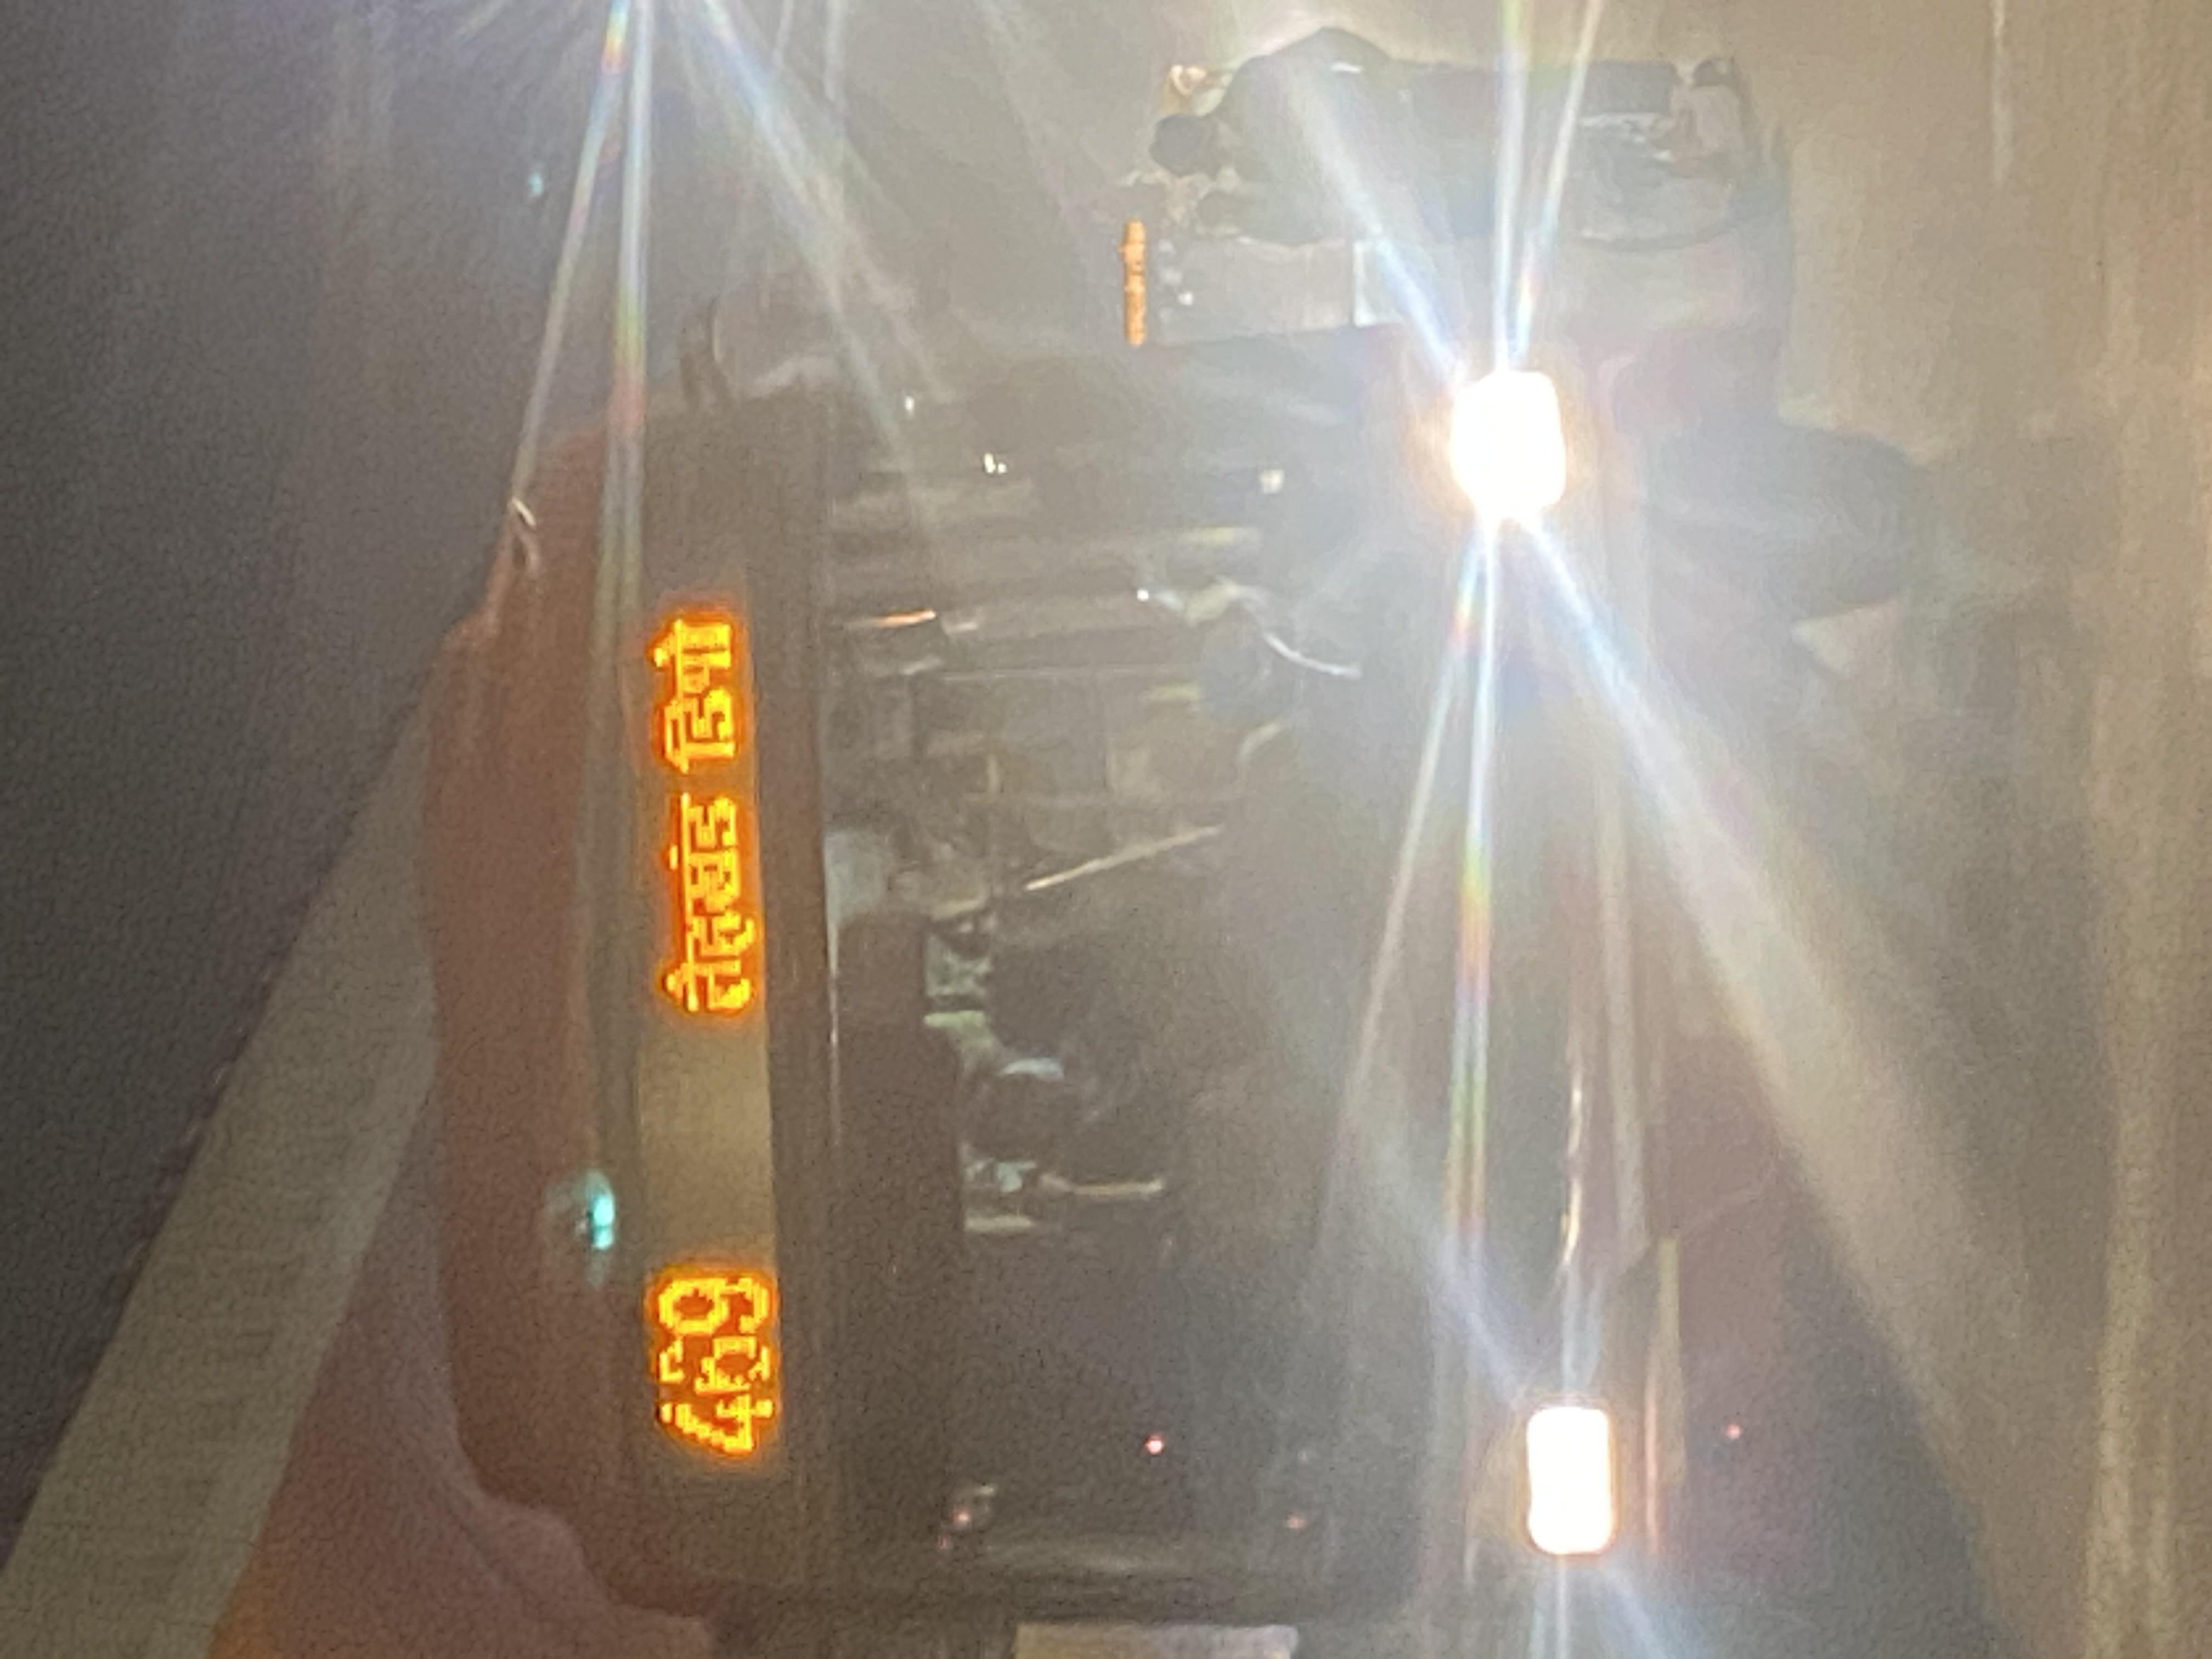Bus: (378, 362, 1674, 1614)
Display Board: (564, 455, 829, 1657)
